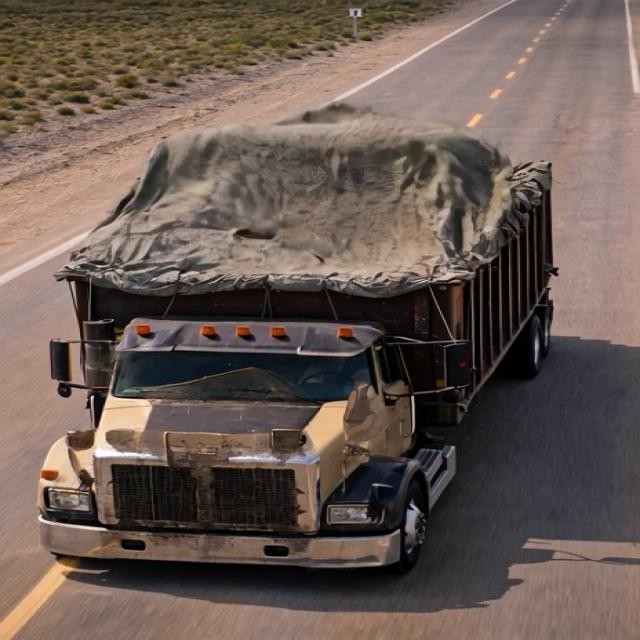Box: (33, 114, 570, 570), (48, 111, 548, 305)
